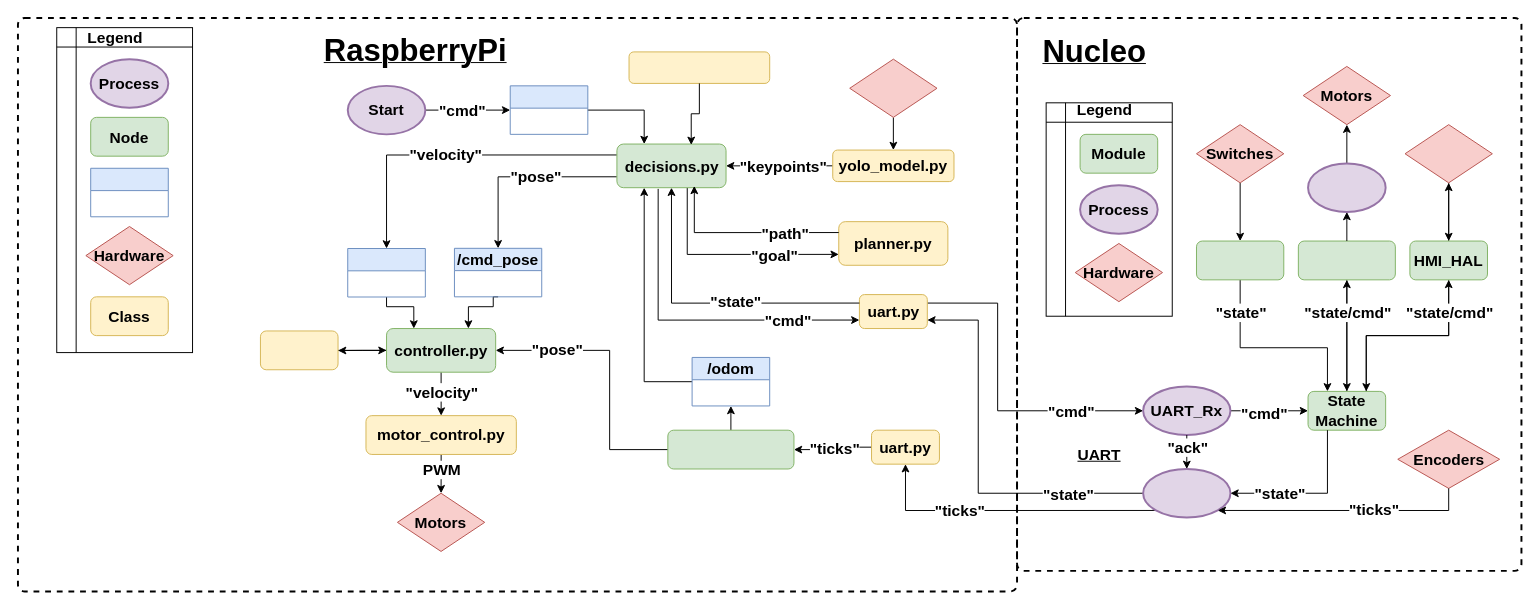
Image size: 1538x609. Some labels were removed from this diagram. Here are the shapes that lost their labels. From the top down, the box of each, then its label:
(628, 51, 770, 83): neopixel_ring.py
(849, 58, 937, 117): Camera
(509, 85, 588, 134): /cmd
(1404, 124, 1492, 183): HMI
(90, 167, 168, 217): /topic
(1307, 162, 1386, 212): Move
(347, 248, 425, 297): /cmd_vel
(1196, 240, 1284, 280): Limit_HAL
(1297, 240, 1395, 280): Motor_HAL
(259, 330, 338, 370): PID
(667, 429, 794, 469): localization.py
(1142, 468, 1231, 518): UART_Tx
